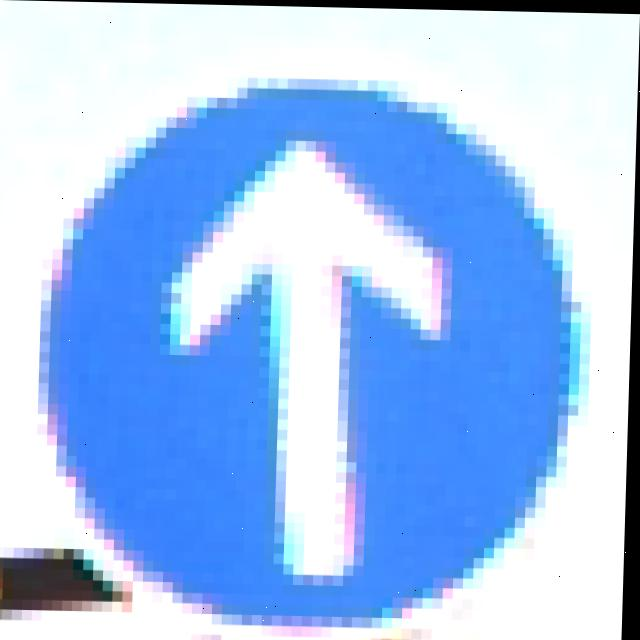compulsory_ahead: (37, 92, 565, 609)
